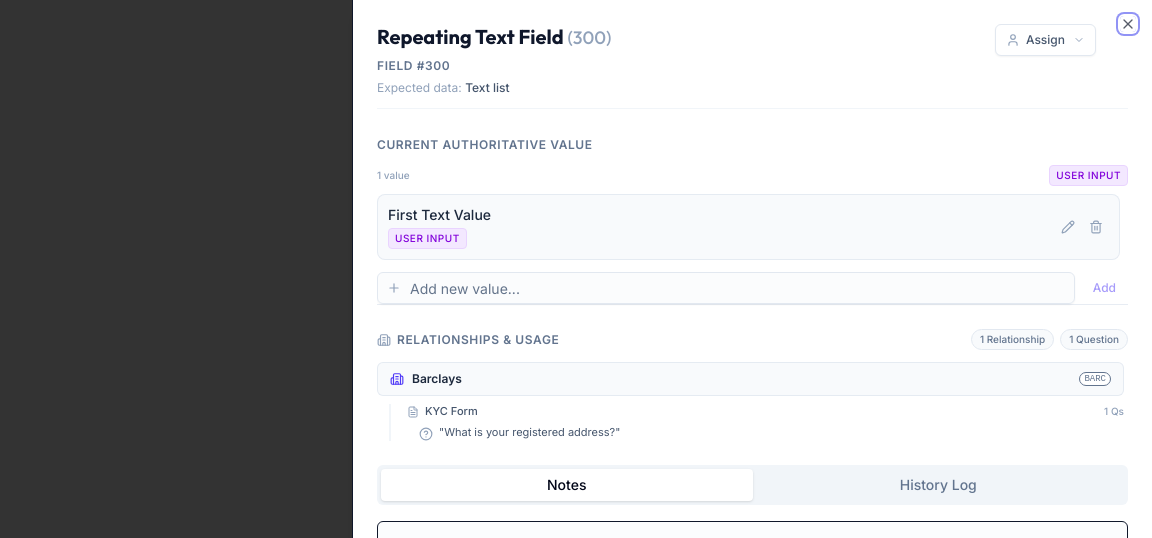
Scenario: FieldDetailPanel - Generic Multi-Value Branch (Field 235 & Generic Repeating Fields) › enters edit mode with a usable <Input> control for repeating TEXT field F300
Expected: the text "First Text Value" is shown, [388,206,491,223]
Click the button titled "Edit value" at (1068, 227), box [1055,214,1081,240]
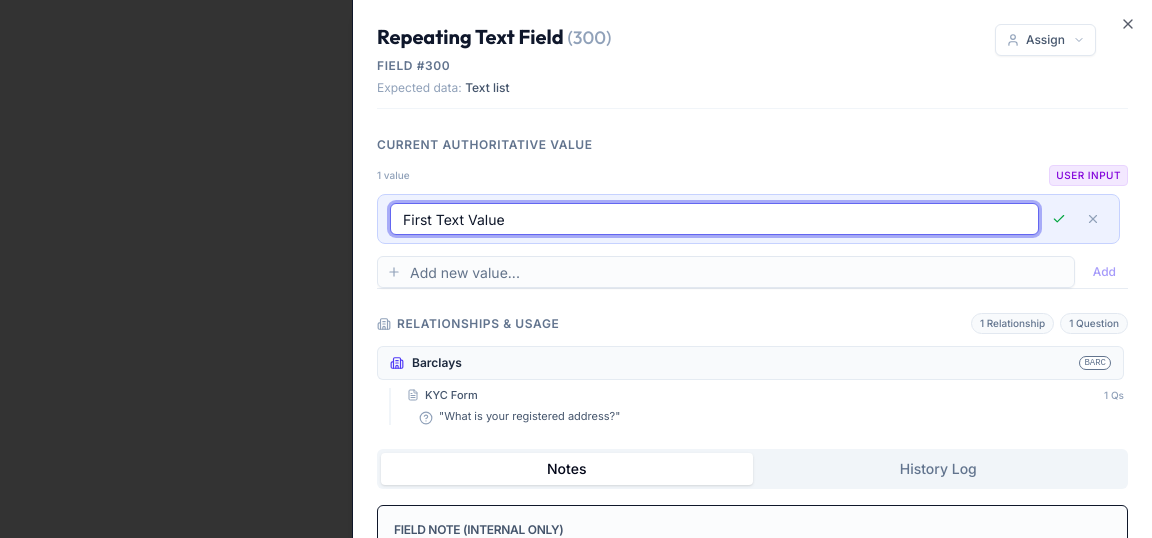
Result: the 1st field holds "First Text Value" at [390,203,1039,235]
